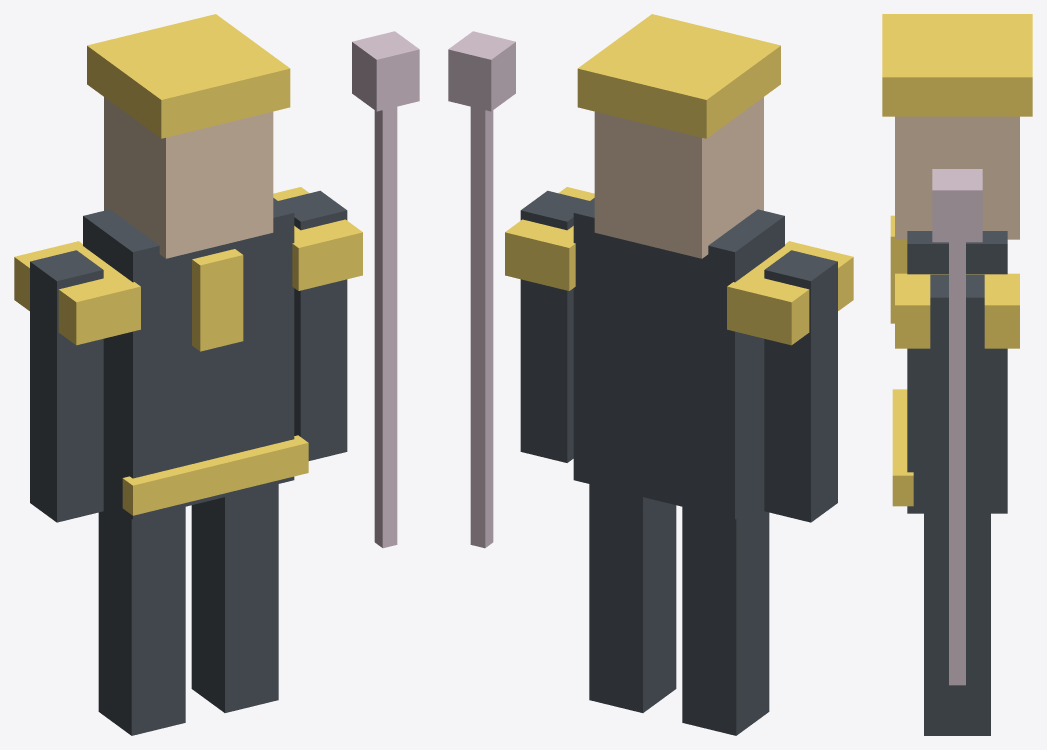
File: 17_isolde_nullborne_smith_of_waystone.glb
The picture shows the model from 3 angles, left to right: view 1: azimuth 30°, elevation 25°; view 2: azimuth 150°, elevation 25°; view 3: azimuth 270°, elevation 25°; orthographic projection.
Visible parts, largest first — view 1: Isolde Nullborne, Smith of Waystone; view 2: Isolde Nullborne, Smith of Waystone; view 3: Isolde Nullborne, Smith of Waystone.
Part boxes in pixels (box(x1,y1,x2,y2)): Isolde Nullborne, Smith of Waystone: box(14, 14, 419, 735); Isolde Nullborne, Smith of Waystone: box(448, 14, 853, 735); Isolde Nullborne, Smith of Waystone: box(882, 14, 1032, 735).
Size of the model in its own units: 0.956 by 1.63 by 0.3391.
